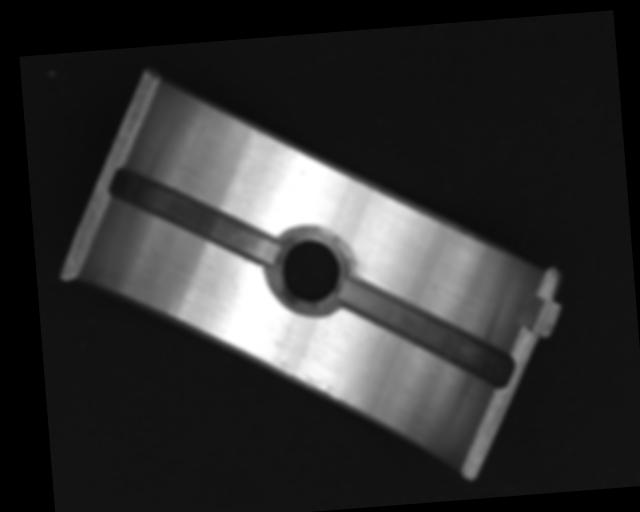gap: (340, 266, 515, 404), (110, 155, 281, 275)
hole: (272, 222, 347, 312)
